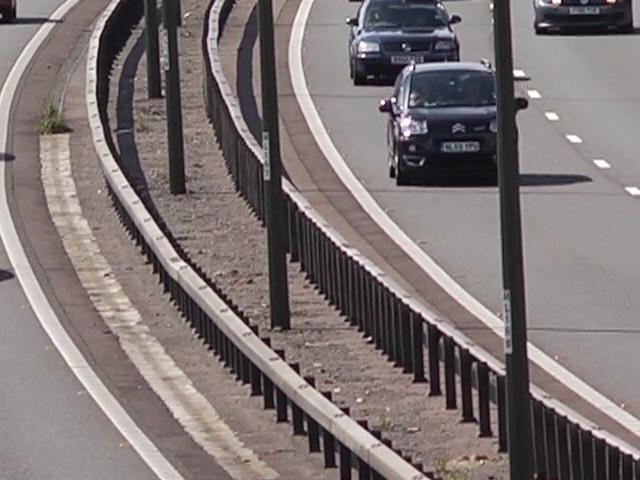car: (382, 60, 530, 188), (358, 0, 468, 83), (524, 0, 640, 38)
